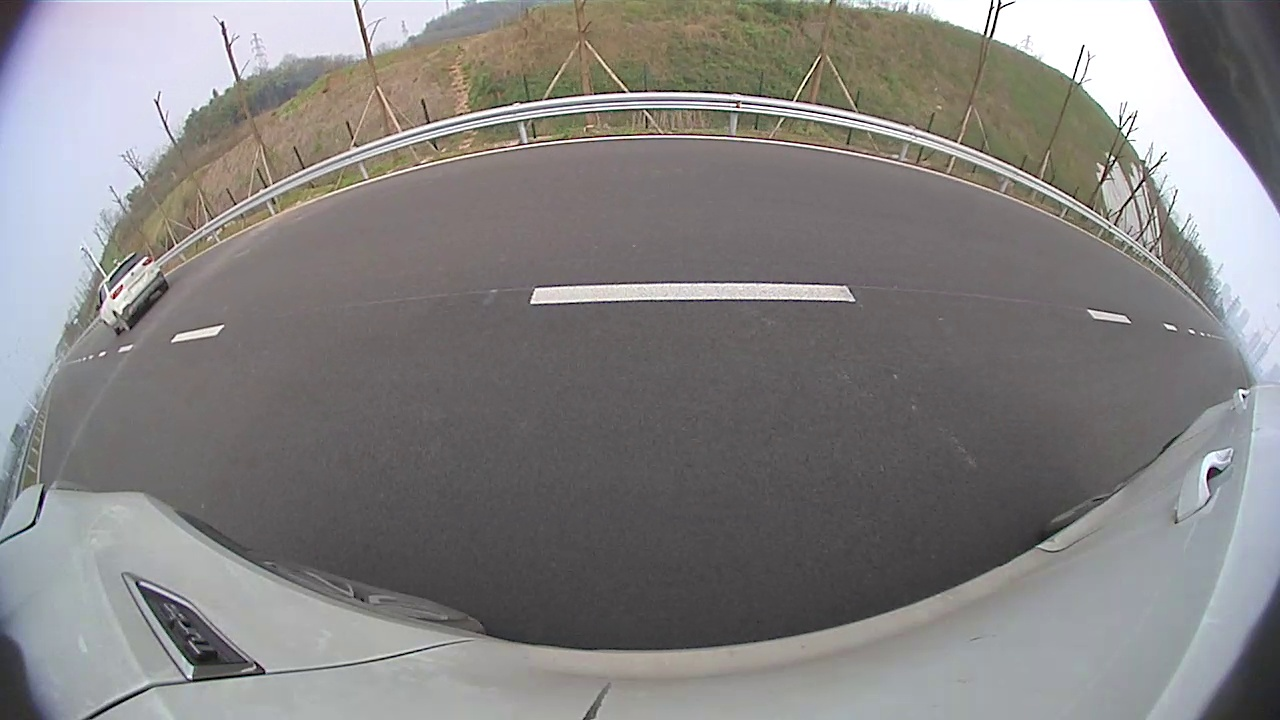car: (97, 252, 168, 337)
rear: (112, 311, 130, 332)
